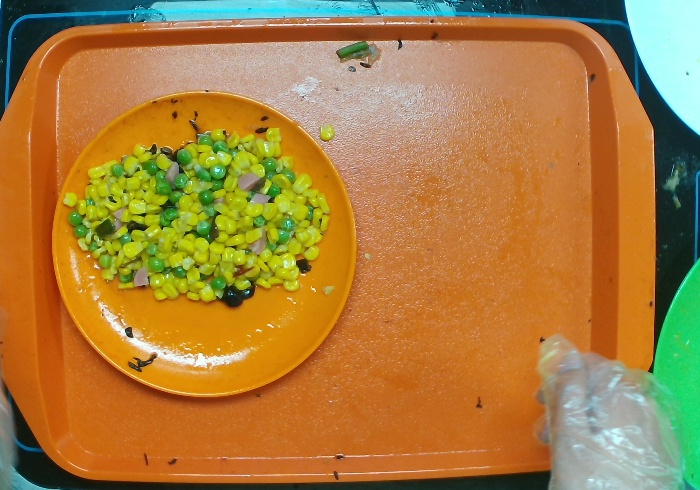HZYJPL-Ju_Huang_Yuan_Pan: (50, 82, 358, 405)
